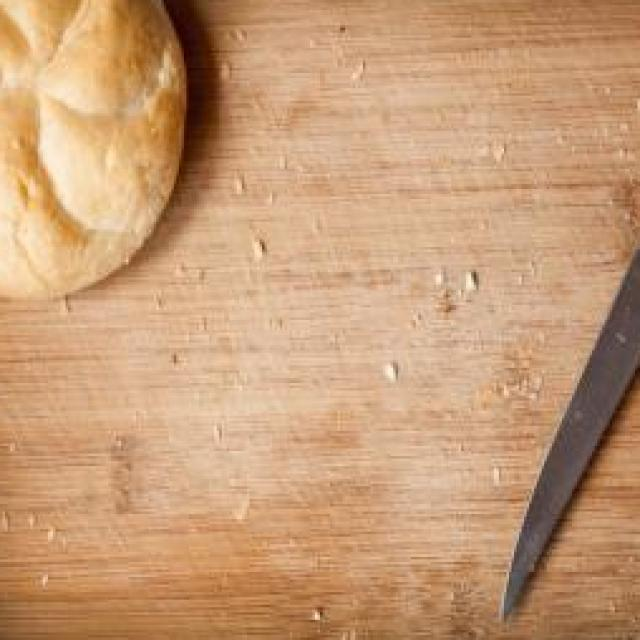knife: (494, 98, 640, 628)
